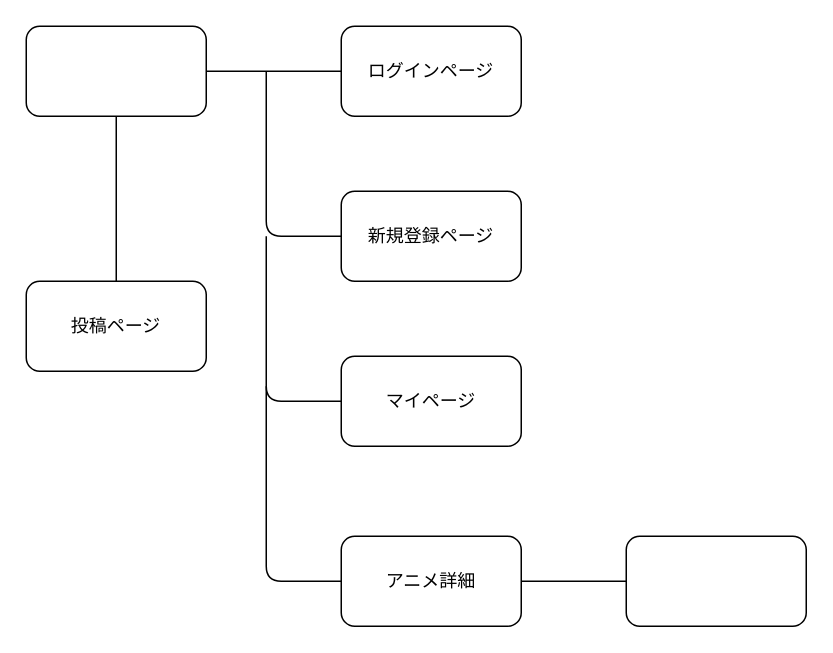
Image size: 833x653. Some labels were removed from this diagram. Each missing label, with the box of its shape:
アニメ一覧ページ: (25, 25, 206, 116)
アニメ編集: (625, 535, 806, 626)
